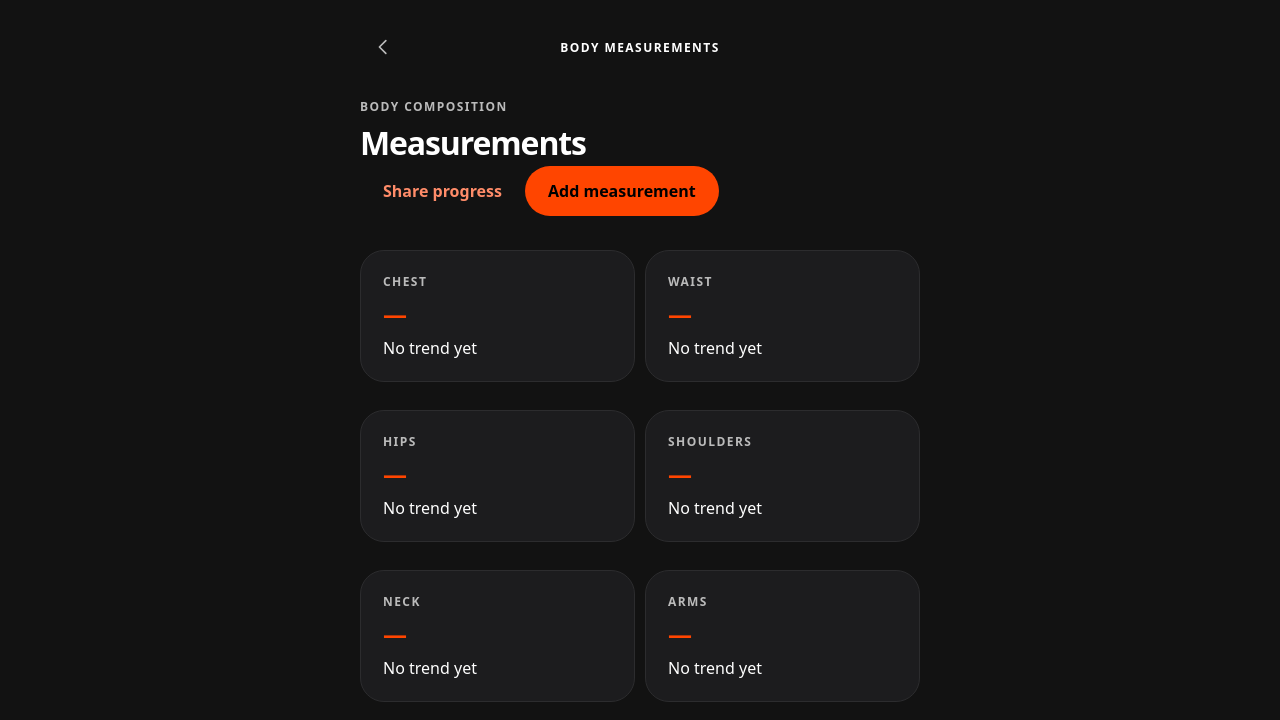
Test: saves a multi-field measurement entry and its goal
Click the button "Add measurement". click: (622, 191)
box: [525,166,719,216]
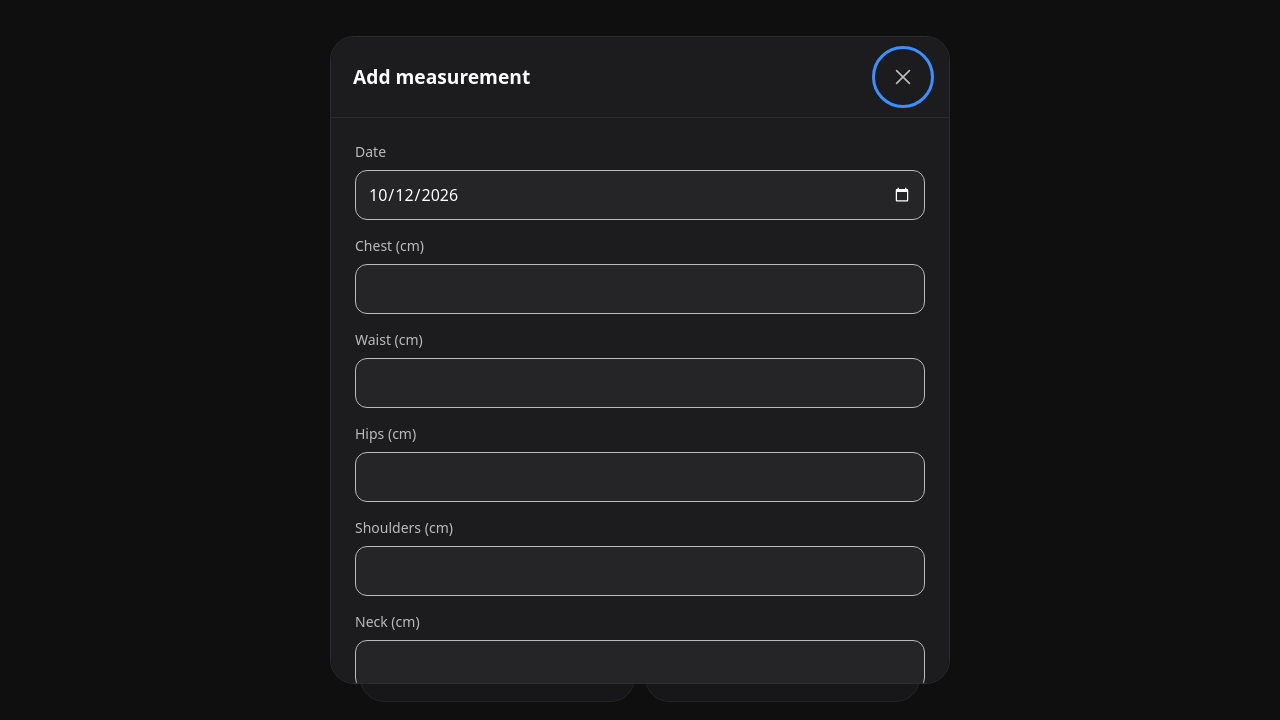
Type "102" into the number field labelled "Chest (cm)". click: (640, 289)
box: [355,264,925,314]
Type "82" into the number field labelled "Waist (cm)". click: (640, 383)
box: [355,358,925,408]
(page scrolled)
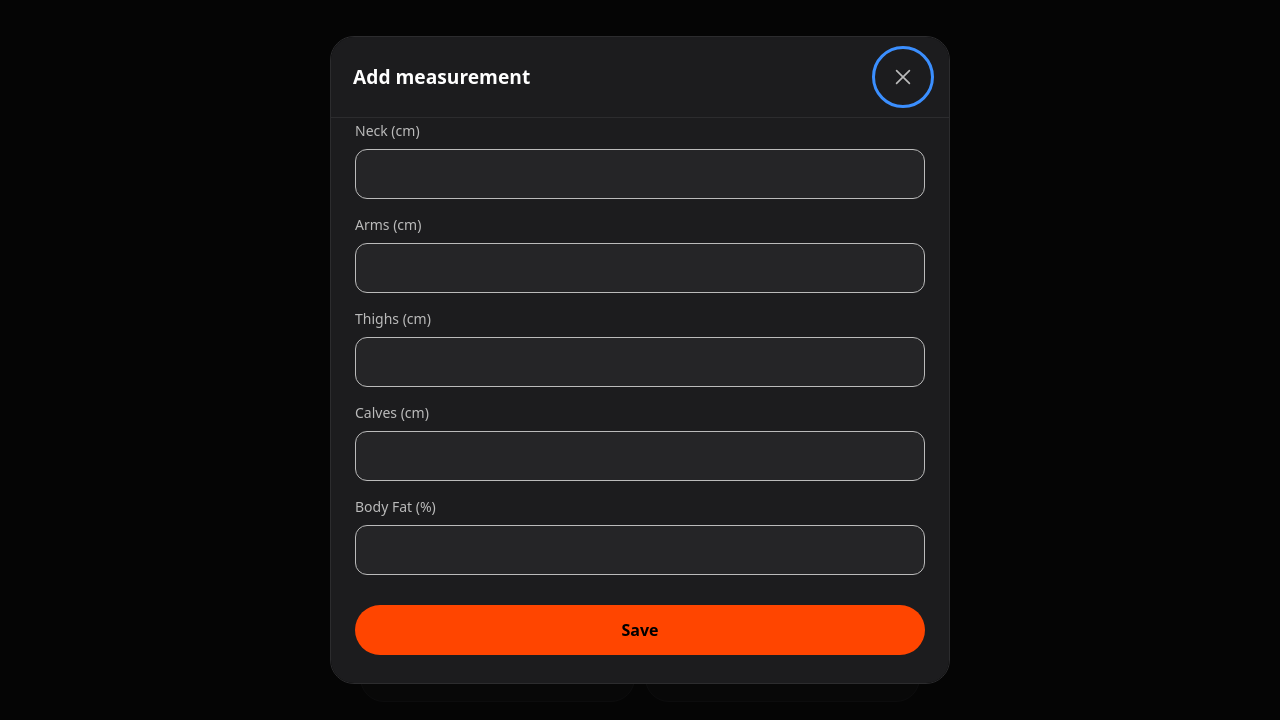
Click the button "Save". click: (640, 630)
box: [355,605,925,655]
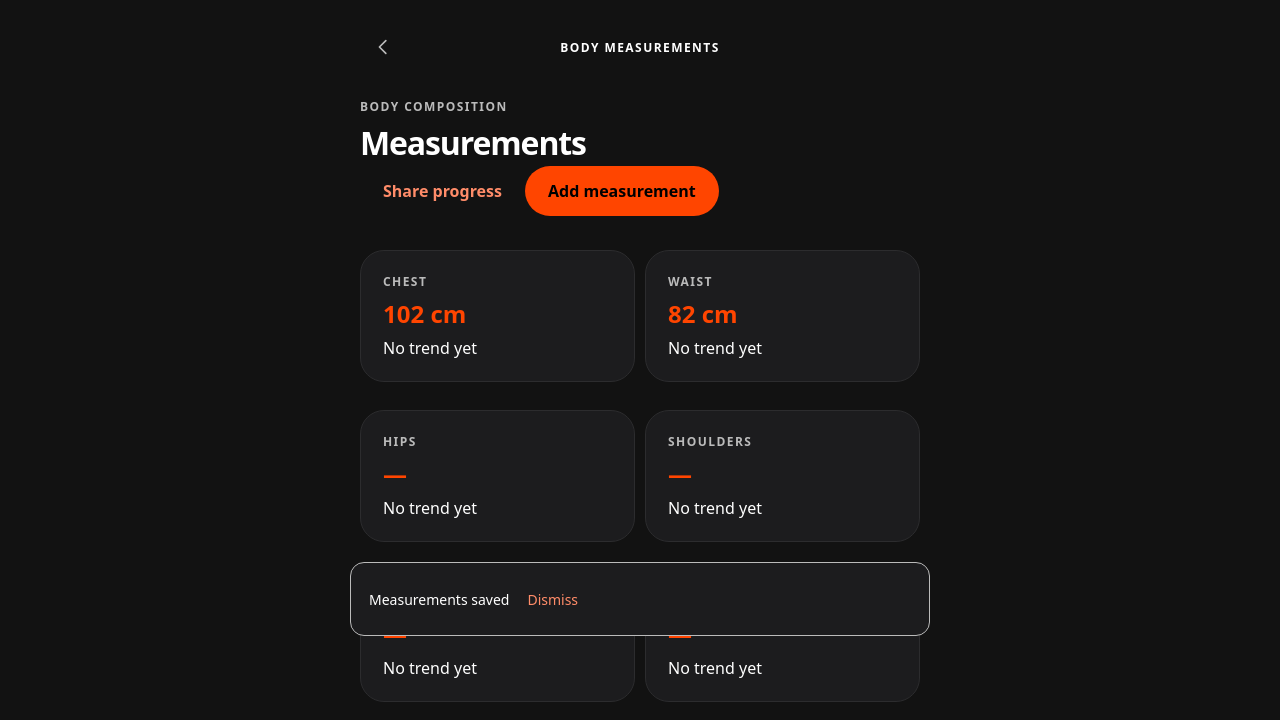
Expected: the text "Measurements saved" is shown, [369,588,509,610]
Click the button "Chest 102 cm No trend yet". click: (405, 281)
box: [360,250,635,382]
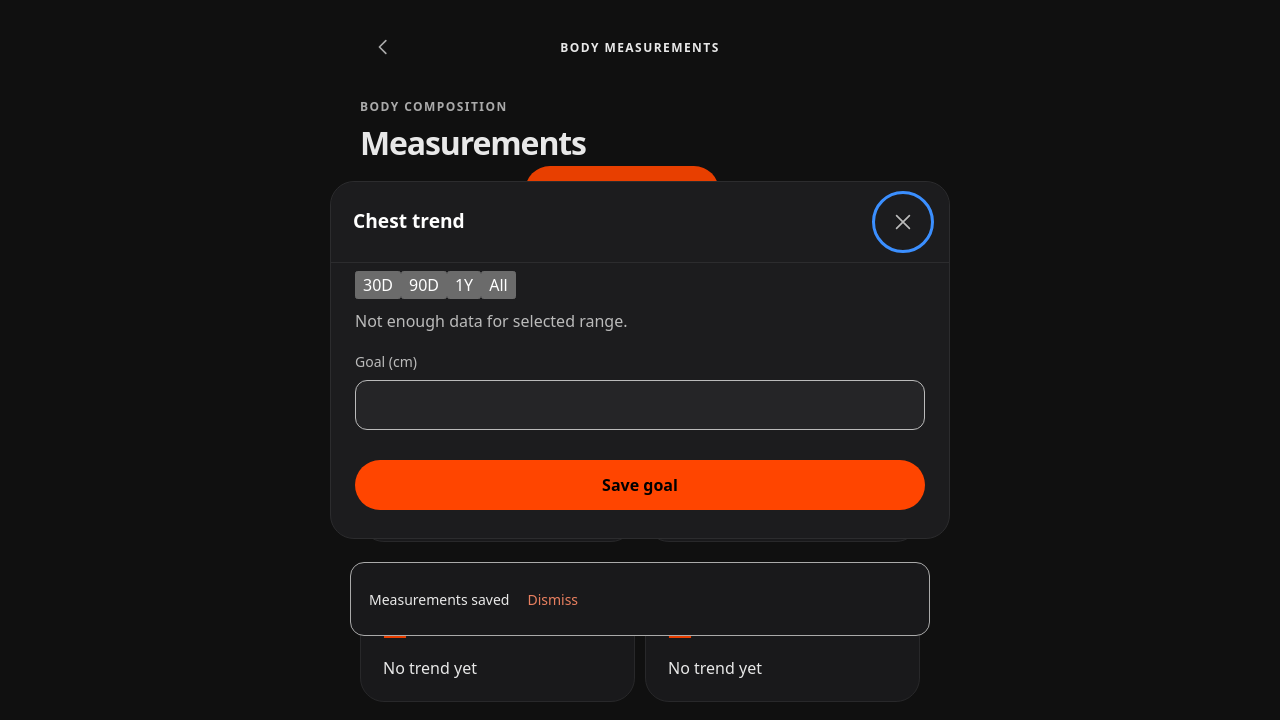
Type "105" into the number field labelled "Goal (cm)". click: (640, 405)
box: [355,380,925,430]
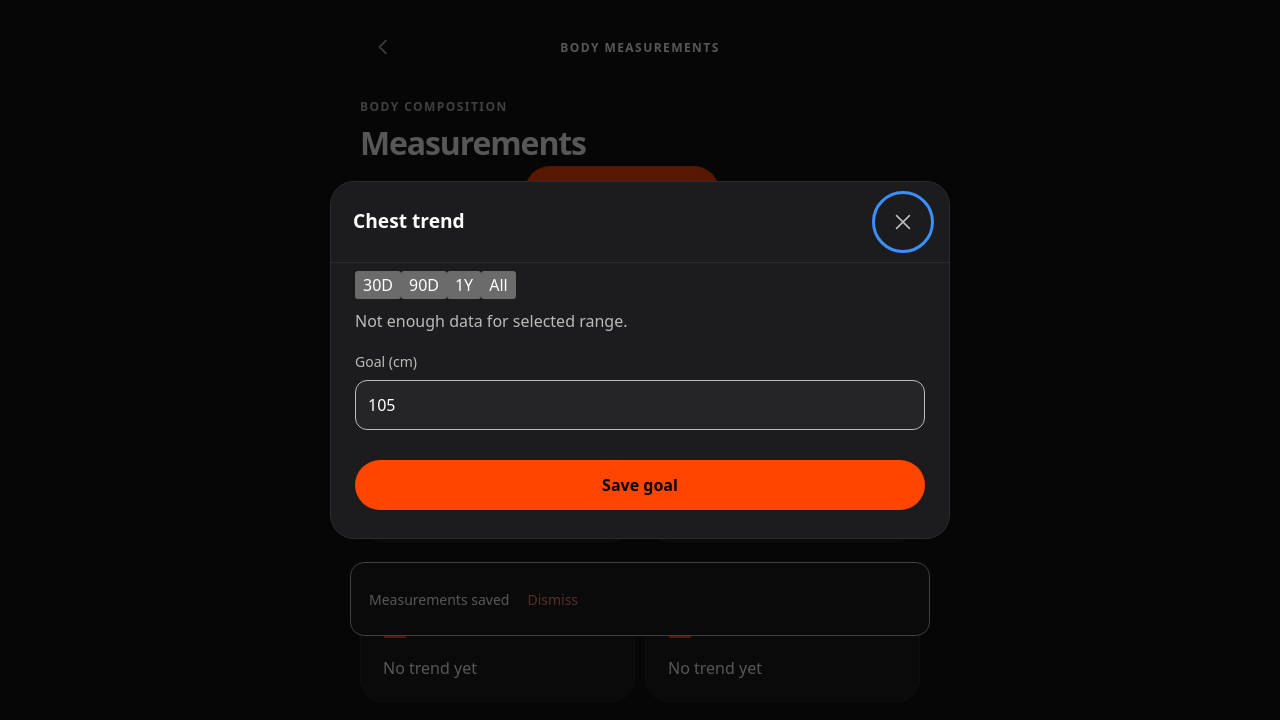
Click the button "Save goal". click: (640, 485)
box: [355,460,925,510]
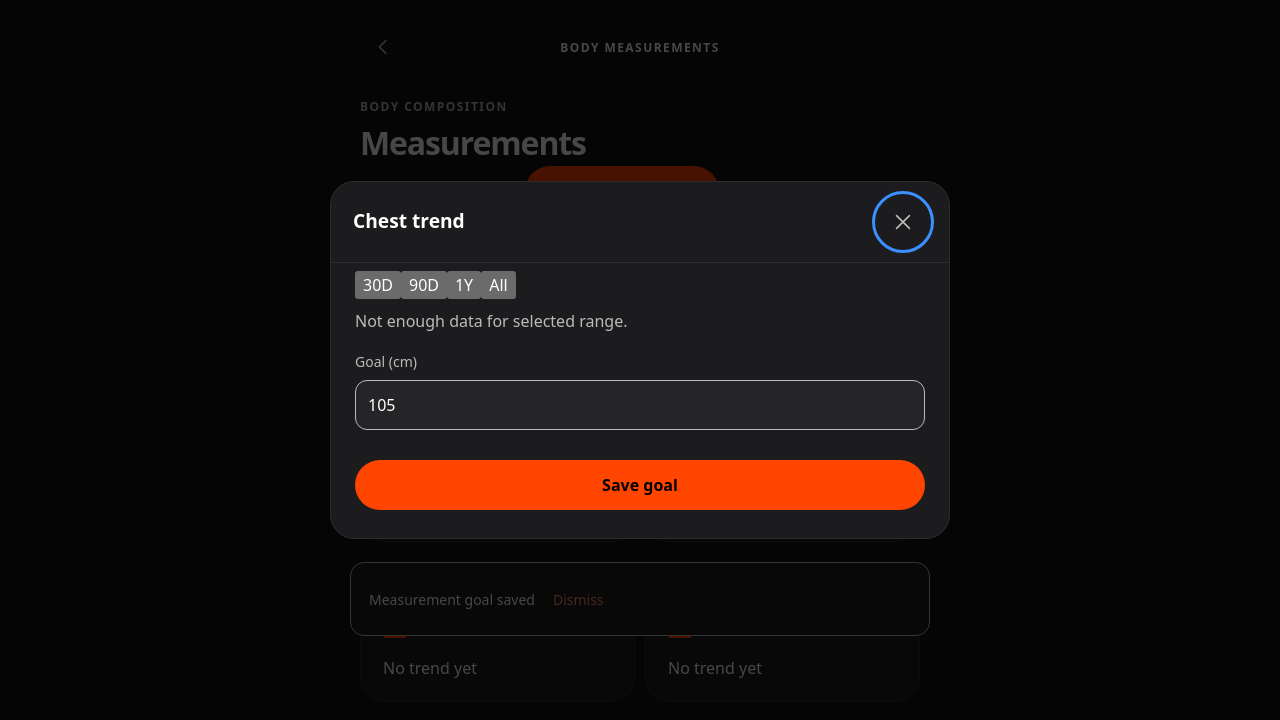
Expected: the text "Measurement goal saved" is shown, [369,588,535,610]
